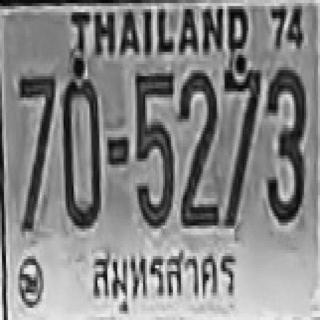N00: (62, 73, 99, 226)
N02: (178, 70, 218, 222), (177, 69, 217, 209)
N03: (264, 65, 304, 221)
N05: (134, 70, 174, 226)
N07: (223, 64, 260, 225), (18, 73, 56, 228)
P58: (86, 244, 240, 317)
